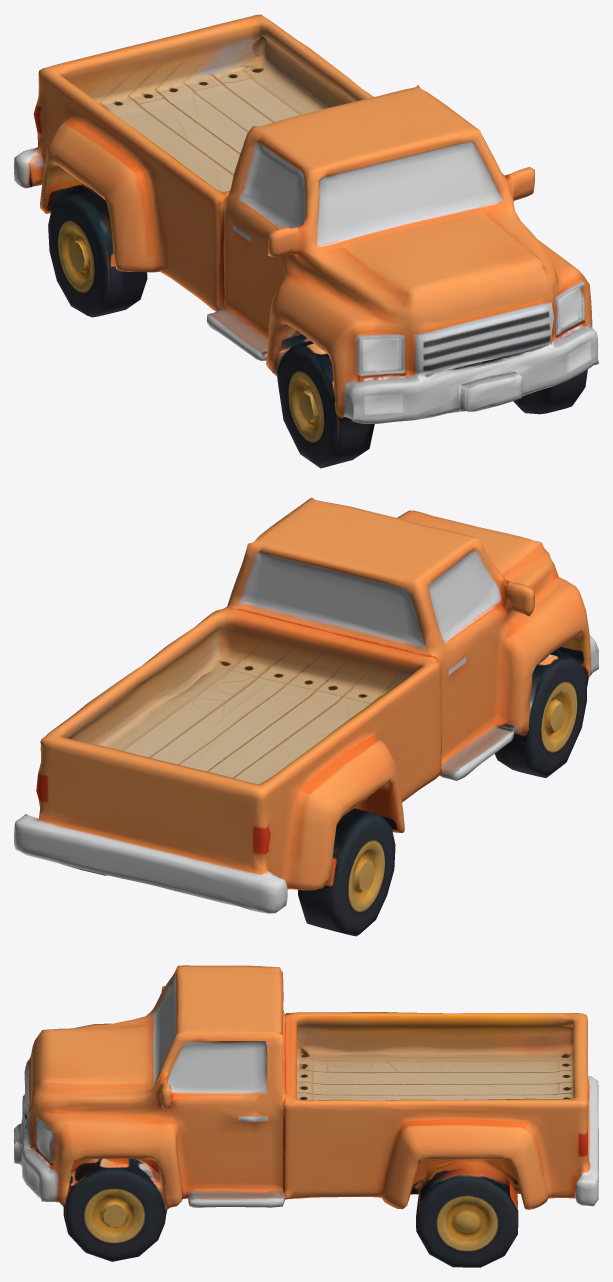
File: pickup-truck-5000T.fbx
3 renders of one model, top to bottom at view 1: azimuth 30°, elevation 25°; view 2: azimuth 150°, elevation 25°; view 3: azimuth 270°, elevation 25°, orthographic. The views are drawn at different scales.
Visible parts, largest first — view 1: tripo_node_f0fff778; view 2: tripo_node_f0fff778; view 3: tripo_node_f0fff778.
Part boxes in pixels (<box>): tripo_node_f0fff778: <box>14,14,598,468</box>; tripo_node_f0fff778: <box>14,497,598,936</box>; tripo_node_f0fff778: <box>14,965,598,1267</box>.
Size of the model in its own units: 0.4794 by 0.4033 by 1.
1 material, 1 textured.
